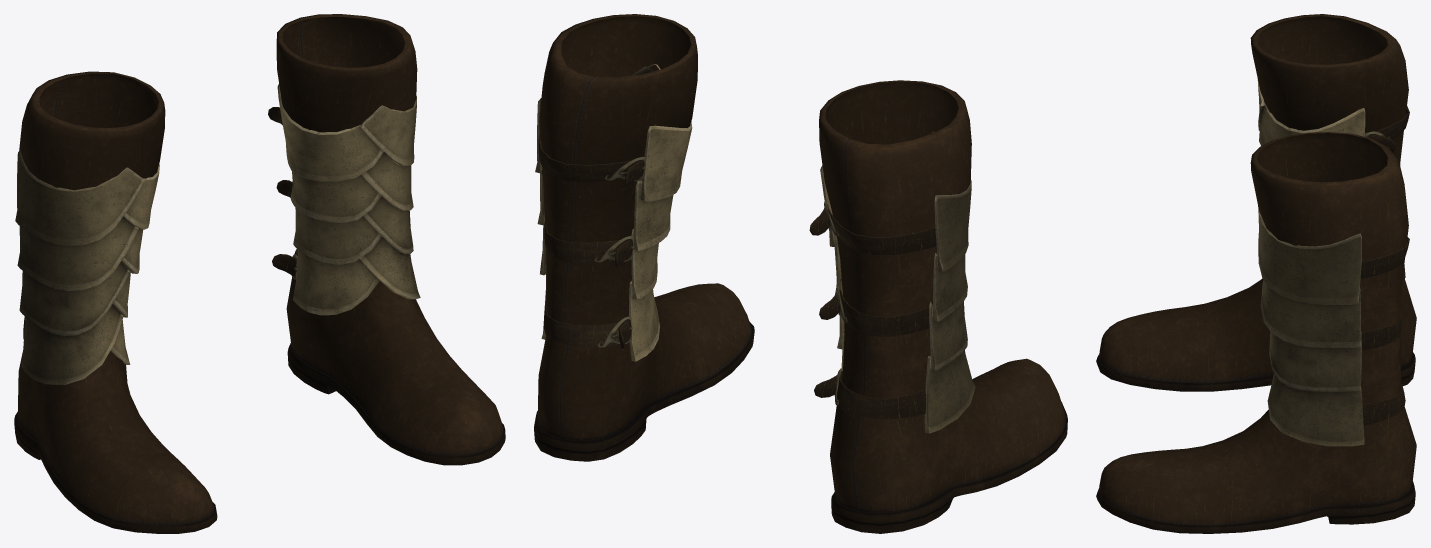
The model's file is am_glorfindel_boots.fbx.
3 renders of one model, left to right at view 1: azimuth 30°, elevation 25°; view 2: azimuth 150°, elevation 25°; view 3: azimuth 270°, elevation 25°, orthographic. The views are drawn at different scales.
Parts seen in each view (by area): view 1: am_glorfindel_boots; view 2: am_glorfindel_boots; view 3: am_glorfindel_boots.
Boxes of the visible parts, box(x1,y1,x2,y2) form: am_glorfindel_boots: box(14, 14, 505, 533); am_glorfindel_boots: box(534, 14, 1067, 533); am_glorfindel_boots: box(1096, 14, 1416, 533).
Bounding box in the file's own units: 0.4646 × 0.3285 × 0.3857.
1 material, 1 textured.
